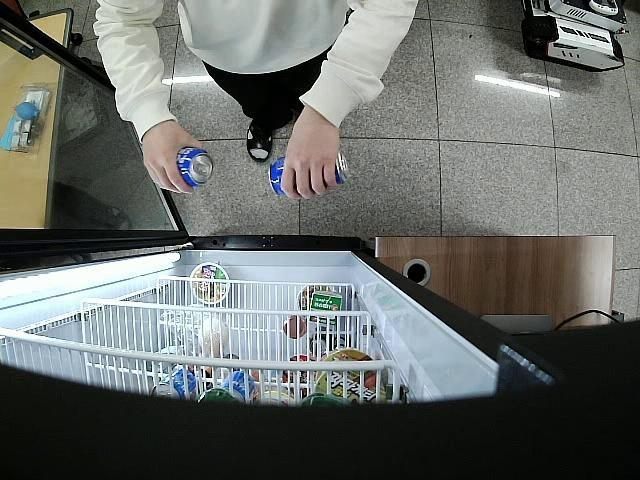13_pocariSweat: (270, 147, 350, 198), (176, 147, 216, 188)
